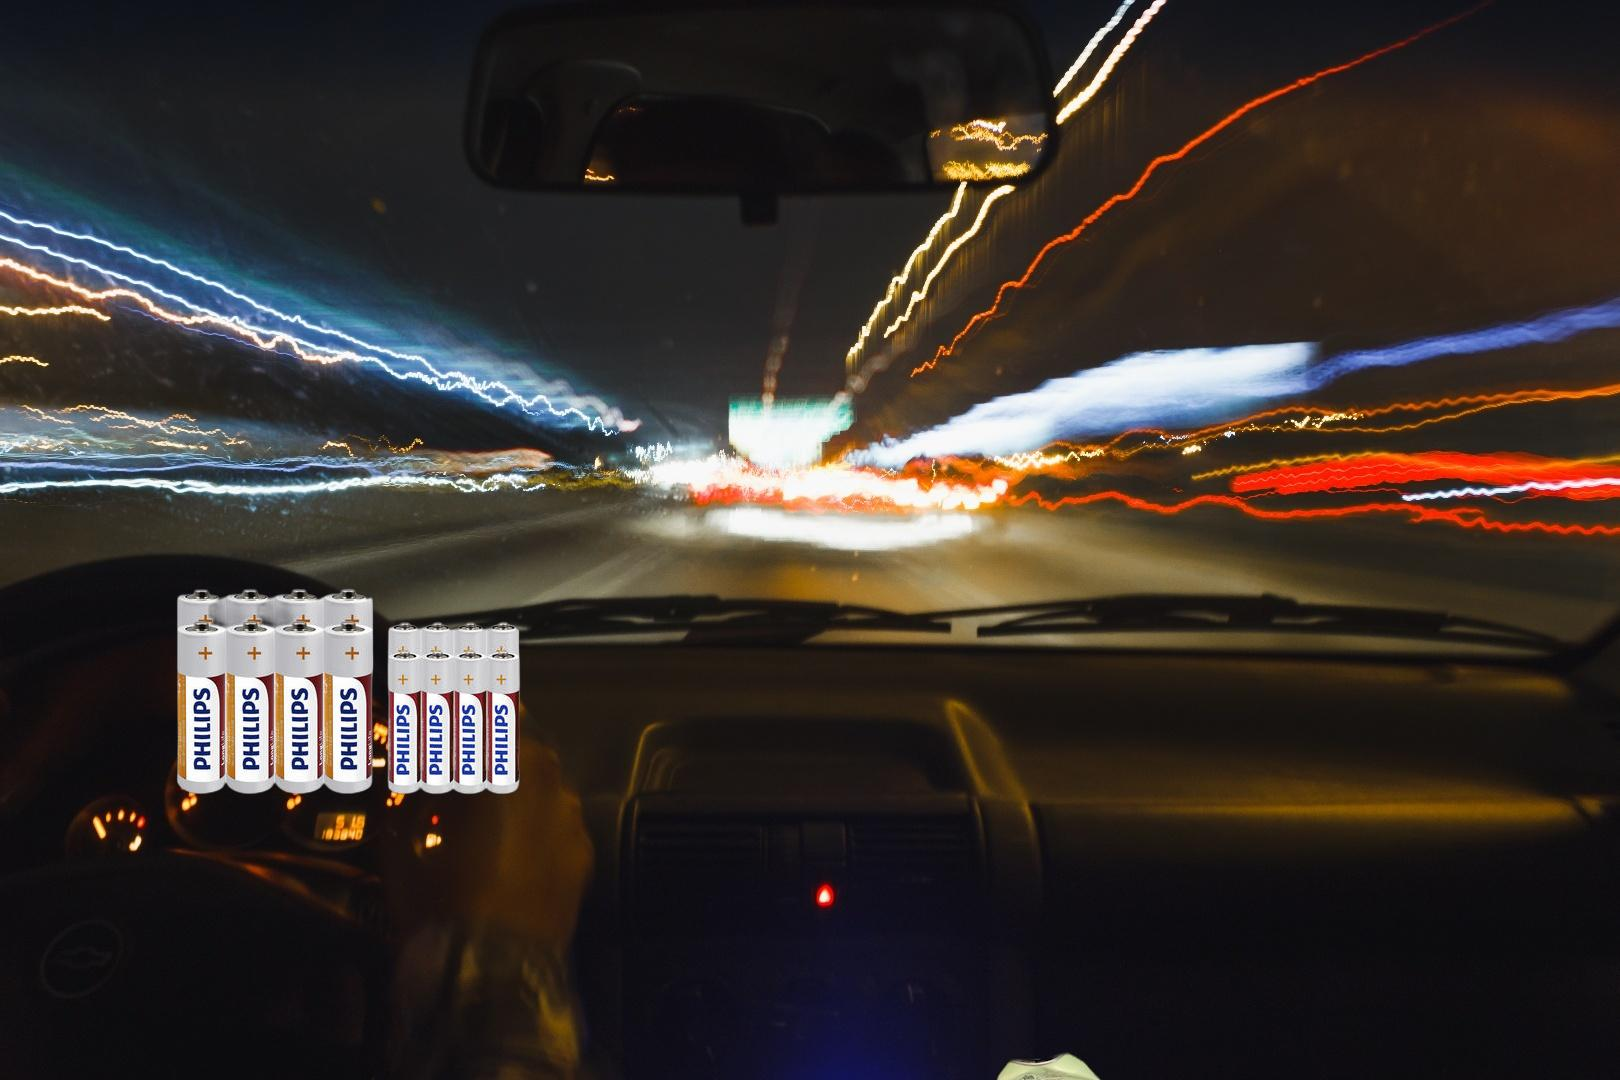battery: (174, 587, 523, 798)
metal-cans: (985, 1047, 1120, 1080)
